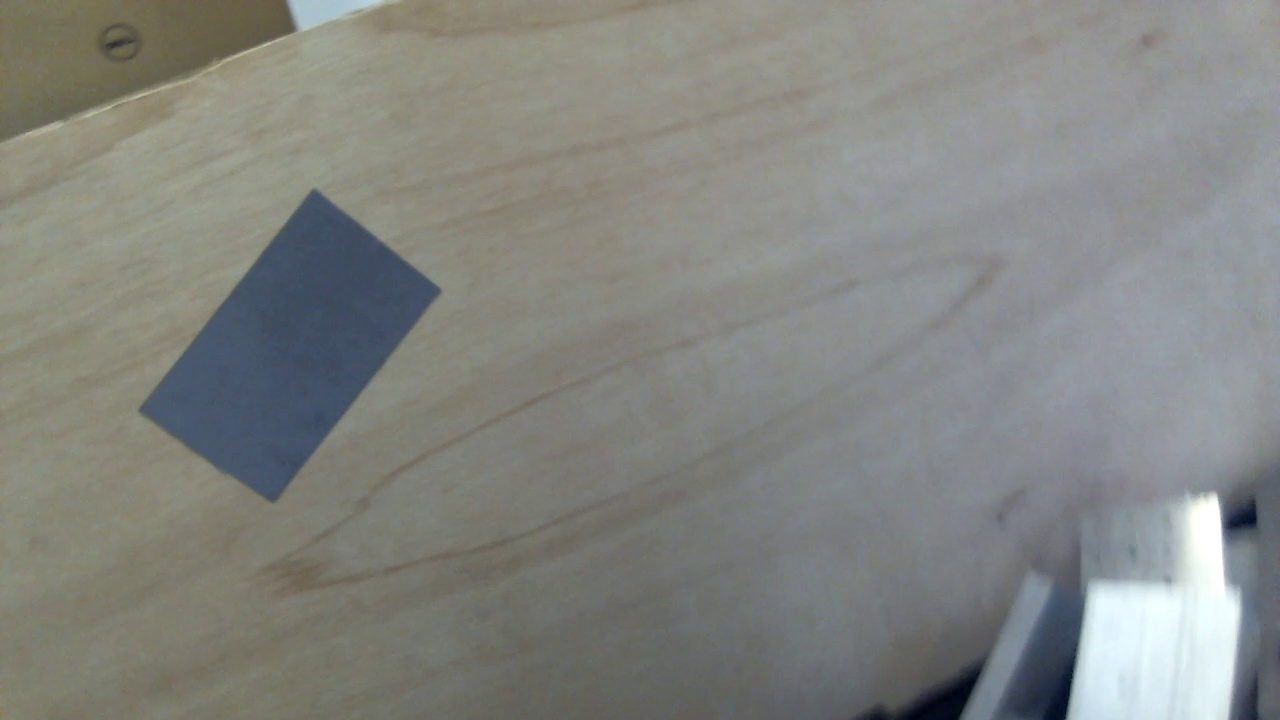Tape: (137, 190, 442, 505)
